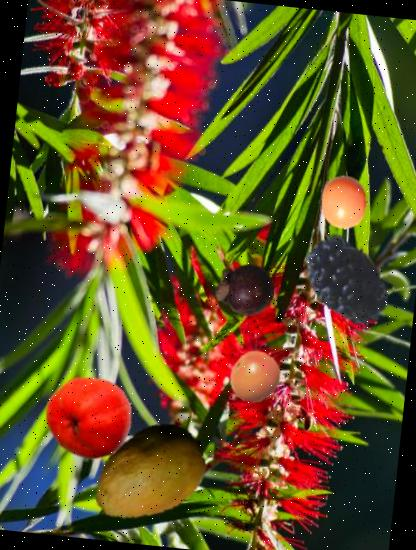Grapefruit: (315, 174, 374, 232), (226, 348, 284, 406)
Mangostan: (207, 254, 278, 325)
Mulberry: (276, 227, 396, 347)
Papaya: (84, 408, 212, 536)
Pear: (41, 369, 138, 466)
